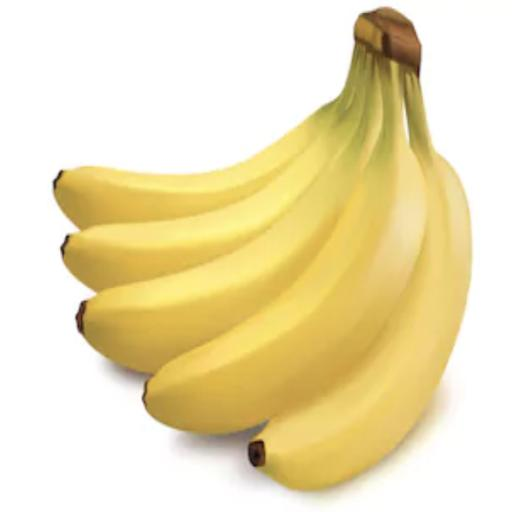banana: (145, 55, 426, 433), (250, 73, 471, 489), (79, 87, 380, 373), (63, 67, 360, 291), (54, 93, 349, 228)
